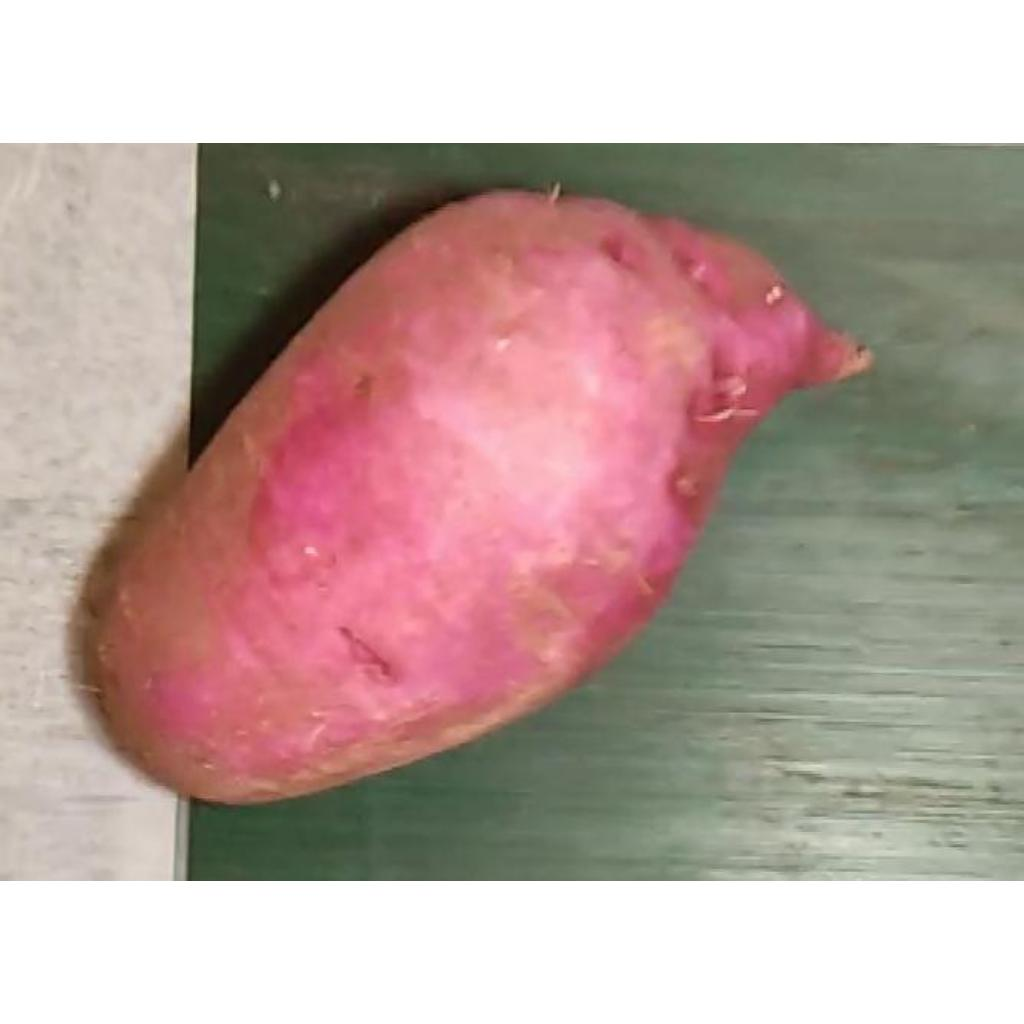Sweet Potato: (71, 189, 875, 808)
